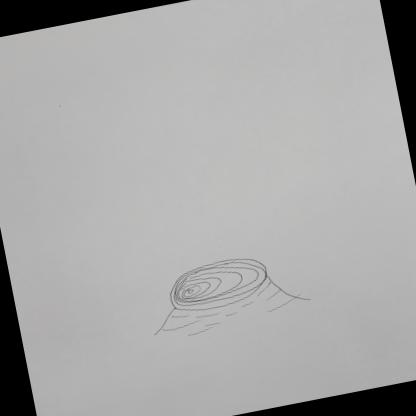knot: (167, 254, 272, 312)
trunk_bark: (152, 280, 314, 332)
